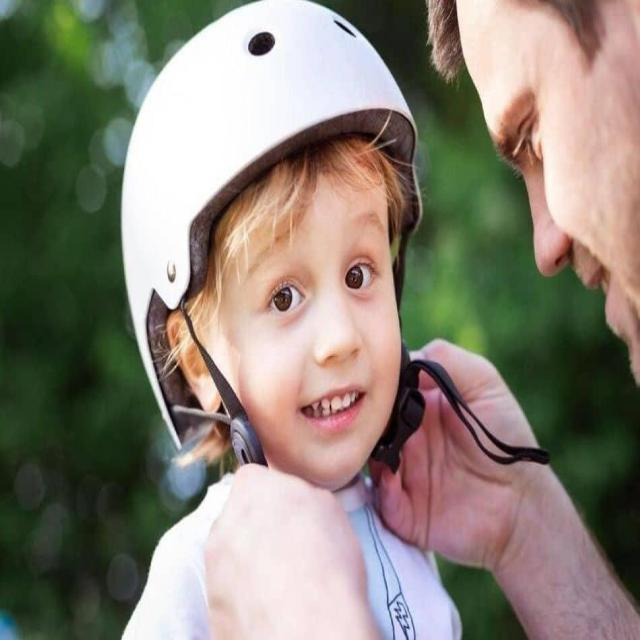Helmet: (120, 0, 422, 494)
